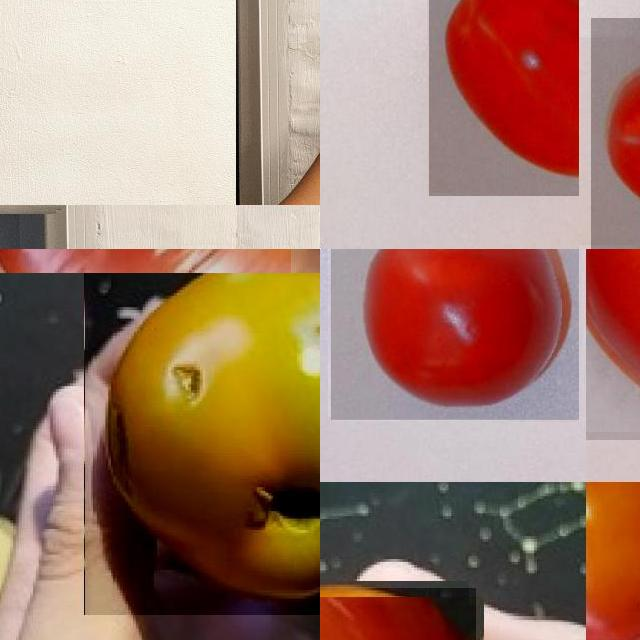1: (84, 273, 320, 615)
Fresh Tomato: (330, 249, 579, 419), (428, 0, 579, 195), (586, 482, 640, 640)
Rotten Tomato: (320, 588, 476, 640)
